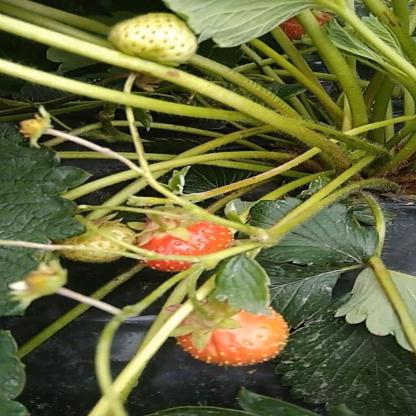ripe: (169, 304, 298, 370), (138, 219, 236, 272), (264, 4, 346, 44)
unripe: (103, 9, 203, 64), (55, 214, 130, 267)
